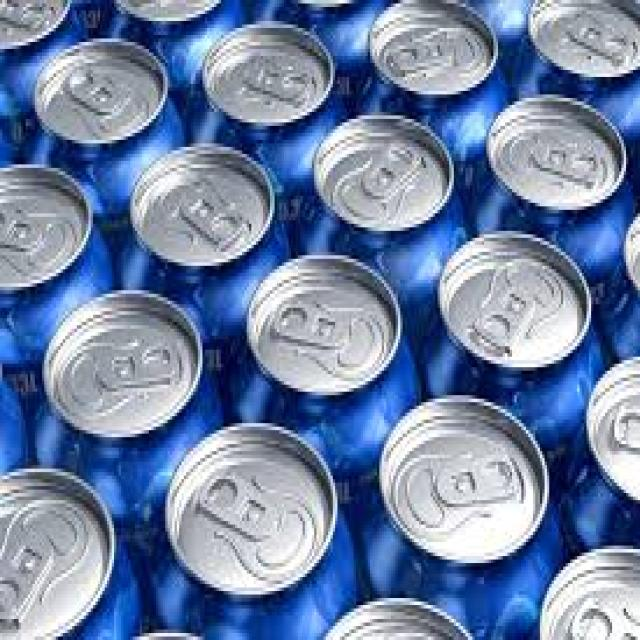Metal: (168, 420, 338, 594), (378, 396, 550, 566), (42, 287, 204, 440), (247, 252, 403, 395)
